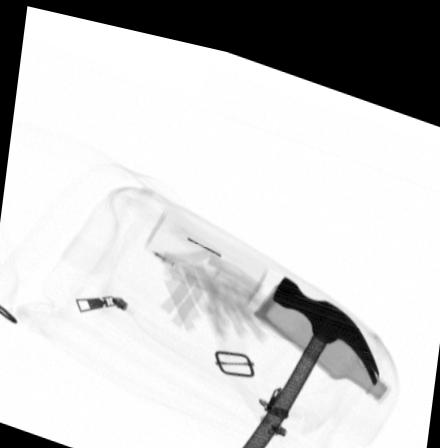Hammer: (230, 260, 381, 448)
